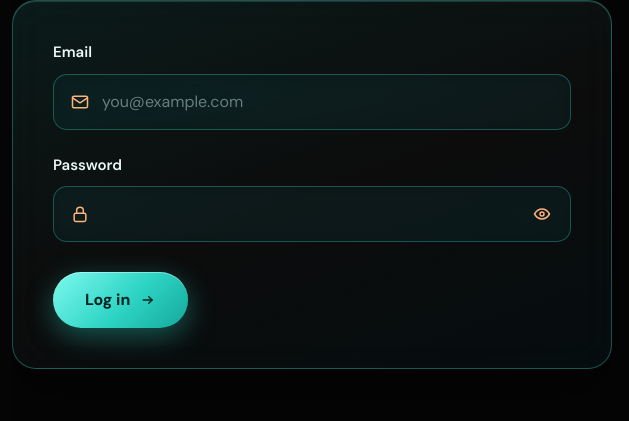
LoginForm › shows the generic error line on any server rejection
This screenshot has width=629, height=421.
In the field labelled "Email": (329, 102) [102,74,556,128], type "nobody@example.com"
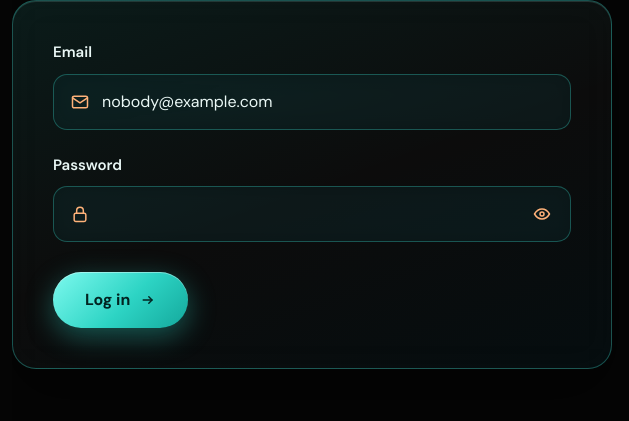
In the password field labelled "Password": (304, 214) [102,187,506,241], type "wrong"
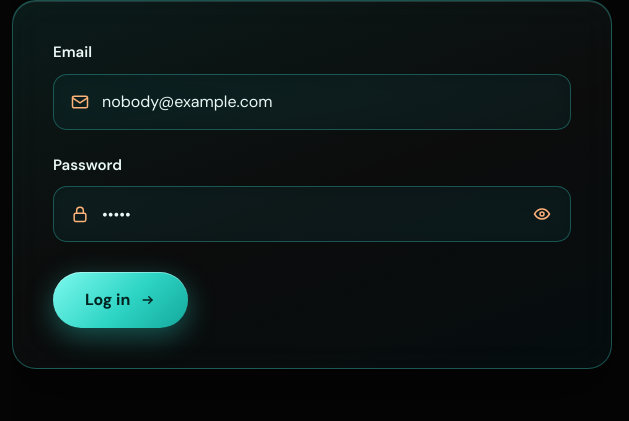
Click the button "Log in": (121, 300) [53,272,188,328]
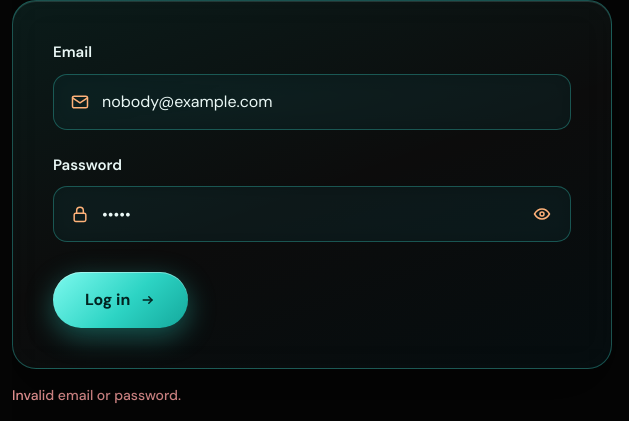
Check: the message does not show "unknown email", box [12,386,181,404]
Check: the message reads "Invalid email or password.", box [12,386,181,404]
